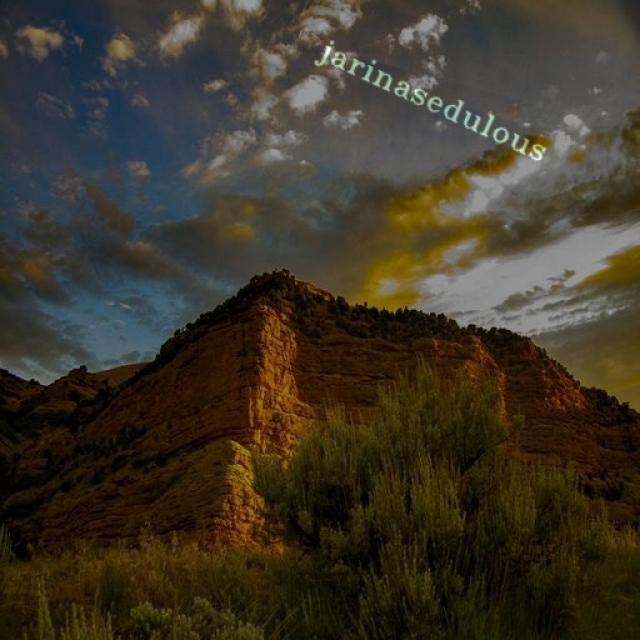watermark: (308, 34, 562, 167)
